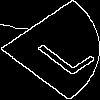L: (25, 24, 97, 78)
